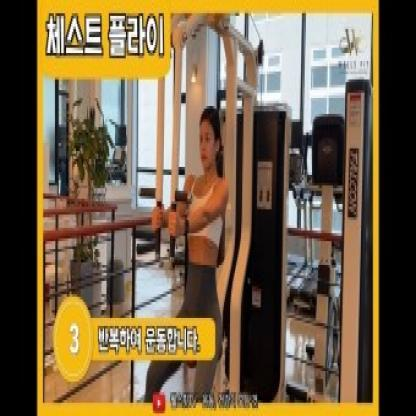chest fly machine: (131, 5, 262, 416)
